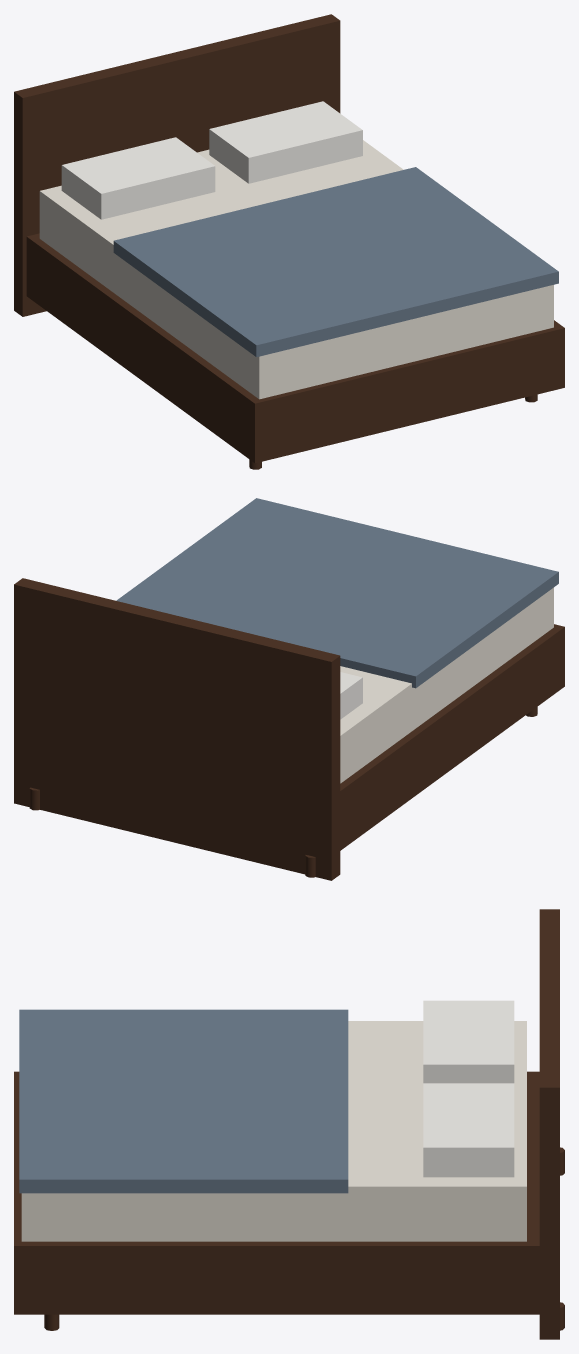
Rendered from bed.glb.
The picture shows the model from 3 angles, top to bottom: view 1: azimuth 30°, elevation 25°; view 2: azimuth 150°, elevation 25°; view 3: azimuth 270°, elevation 25°; orthographic projection. The views are drawn at different scales.
Parts seen in each view (by area): view 1: bed; view 2: bed; view 3: bed.
Boxes of the visible parts, <box> form: bed: <box>14,14,564,469</box>; bed: <box>14,498,564,880</box>; bed: <box>14,909,564,1339</box>.
Bounding box in the file's own units: 1.67 × 1.1 × 2.18.
